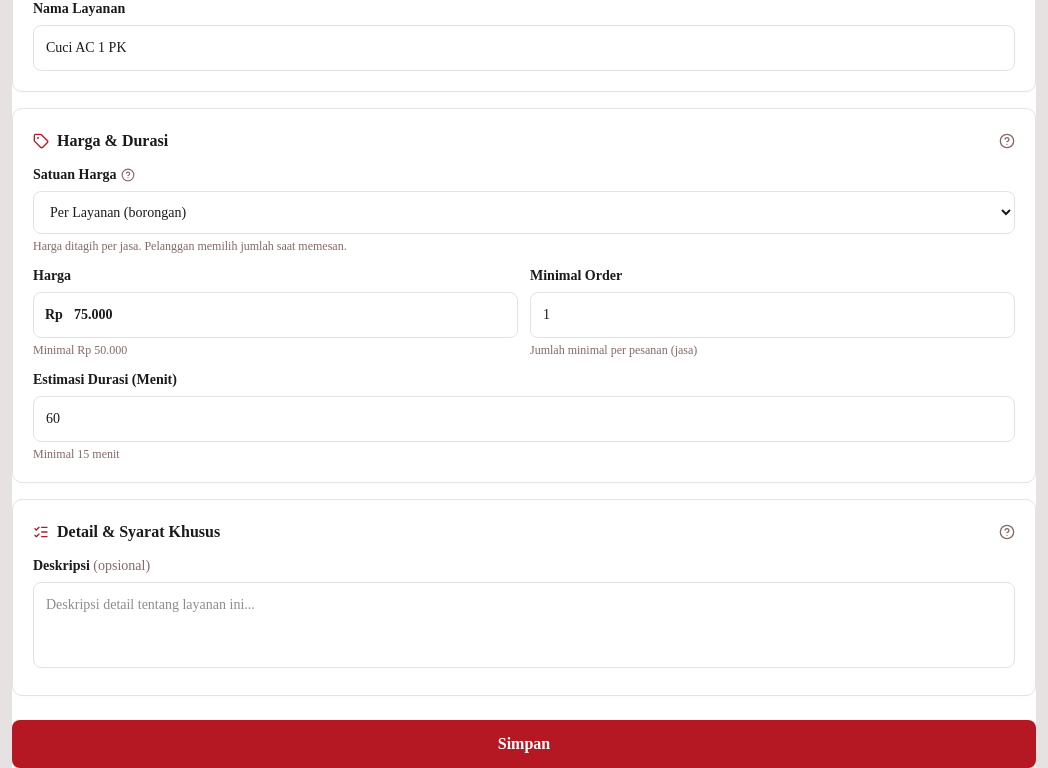
ServiceForm . validasi › menolak bila include atau exclude kosong
(page scrolled)
Click the button "Simpan".
click(524, 744)  # box 12,720 -> 1036,767
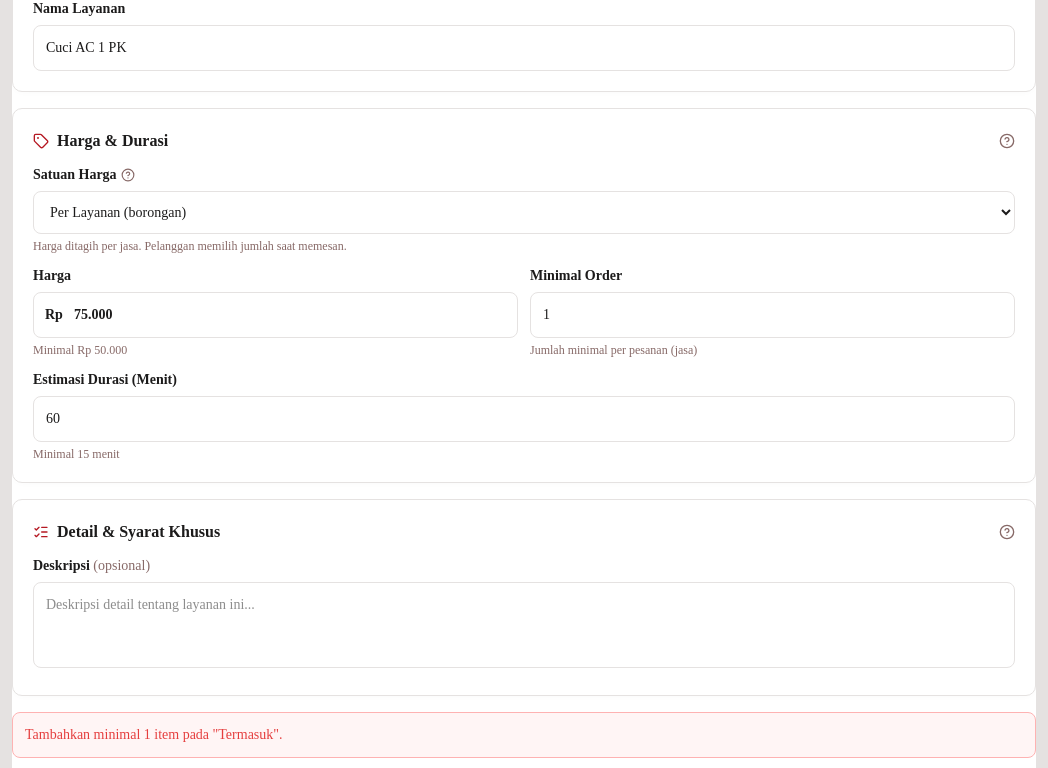
Now the message "Tambahkan minimal 1 item pada \"Termasuk\"." is shown, box 12,712 -> 1036,758
